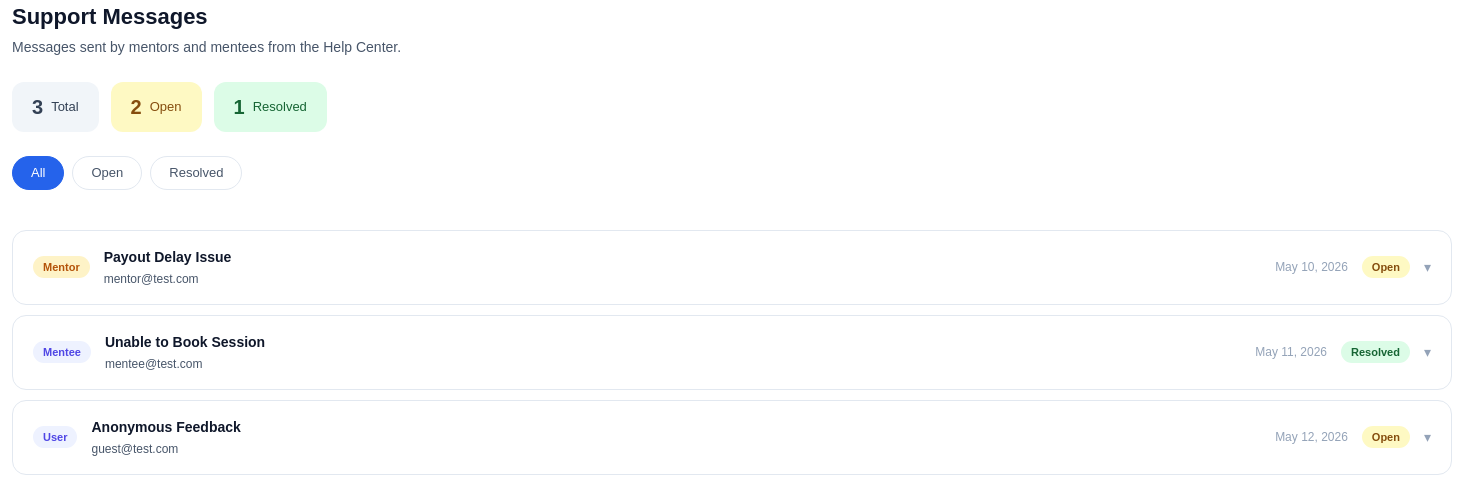
Test: AdminSupportMessages Component Suite › Tab Filtering Mechanics › should filter the visible array blocks as tabs report changes
expect the text "Payout Delay Issue" is shown: met, box [104, 248, 231, 264]
Click the button "open". click: coordinates (107, 173)
box: [72, 156, 142, 190]
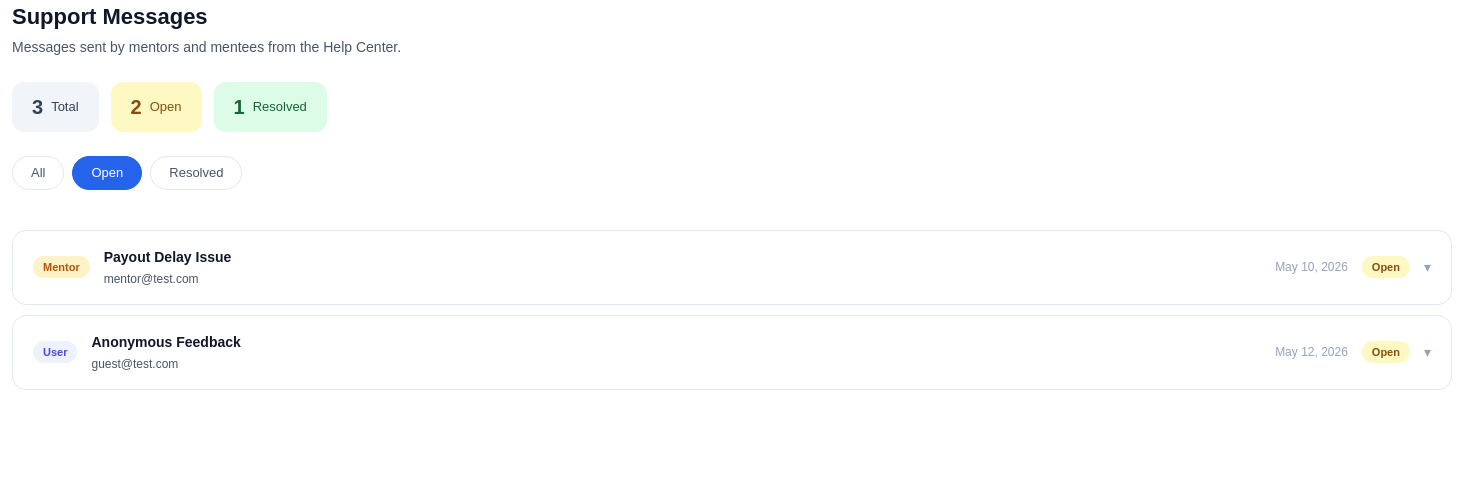
expect the text "Payout Delay Issue" is shown: met, box [104, 248, 231, 264]
expect the button "Unable to Book Session" is gone: met
Click the button "resolved". click: coordinates (196, 173)
box: [150, 156, 242, 190]
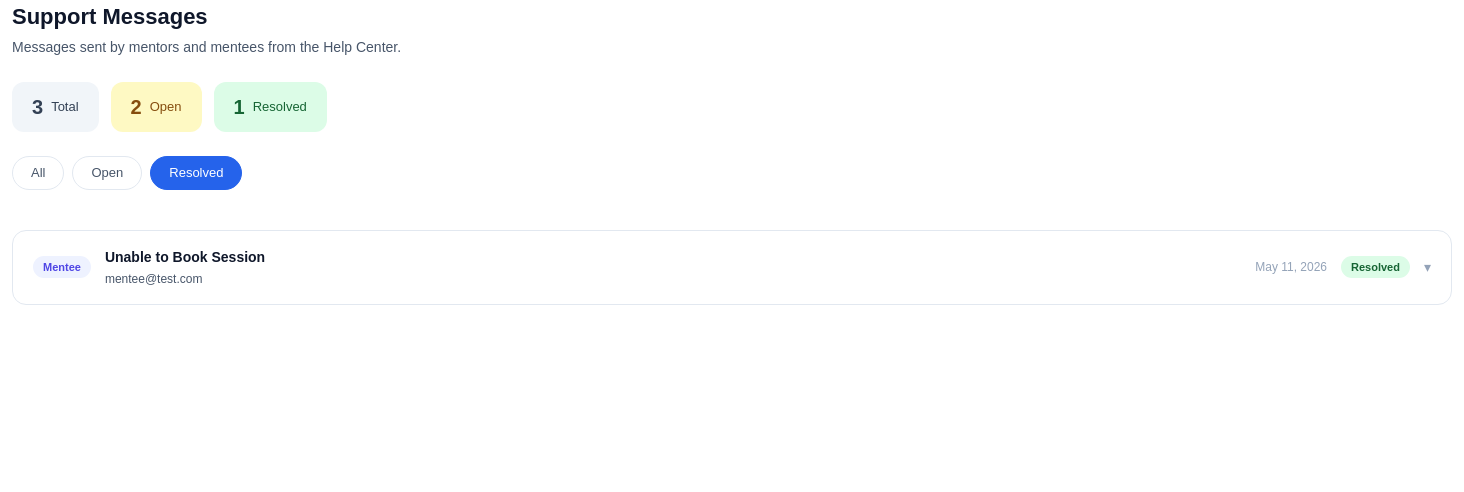
expect the button "Payout Delay Issue" is gone: met
expect the text "Unable to Book Session" is shown: met, box [105, 248, 265, 264]
